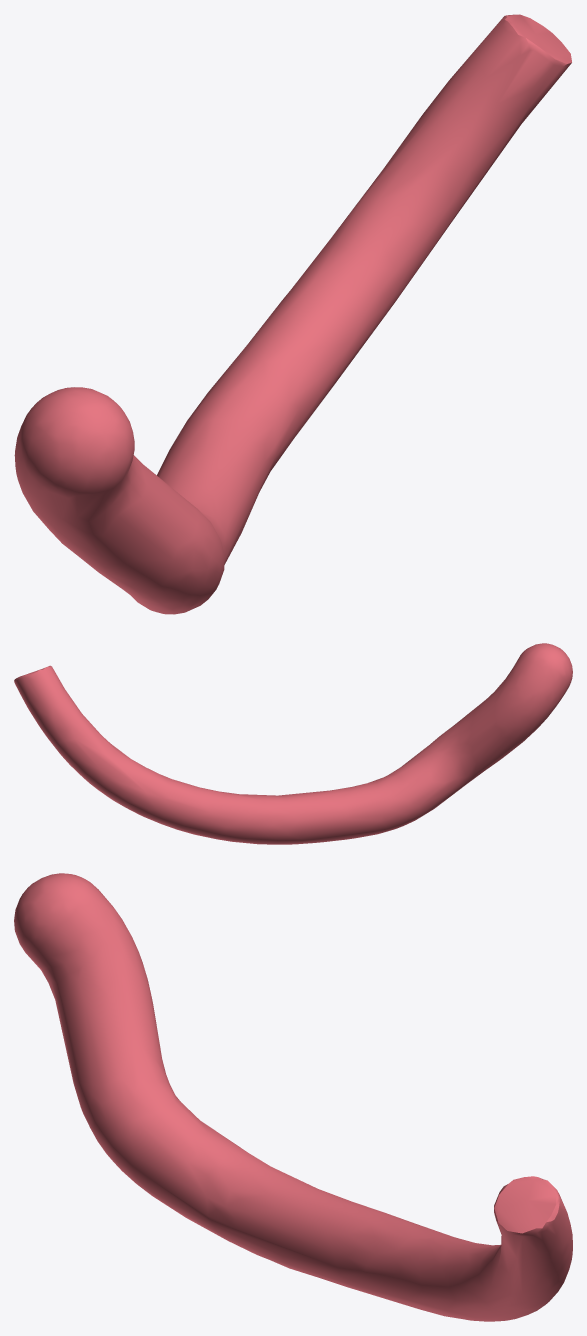
File: fma4706.glb
3 renders of one model, top to bottom at view 1: azimuth 30°, elevation 25°; view 2: azimuth 150°, elevation 25°; view 3: azimuth 270°, elevation 25°, orthographic. The views are drawn at different scales.
Parts seen in each view (by area): view 1: FMA4706; view 2: FMA4706; view 3: FMA4706.
Boxes of the visible parts, <box> form: FMA4706: <box>14,14,571,614</box>; FMA4706: <box>14,643,572,844</box>; FMA4706: <box>14,873,572,1321</box>.
Bounding box in the file's own units: 0.0488 × 0.0194 × 0.0347.
